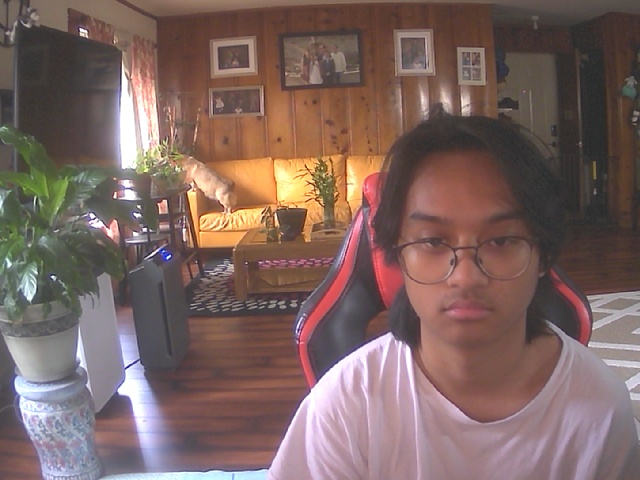neutral: (386, 128, 555, 352)
